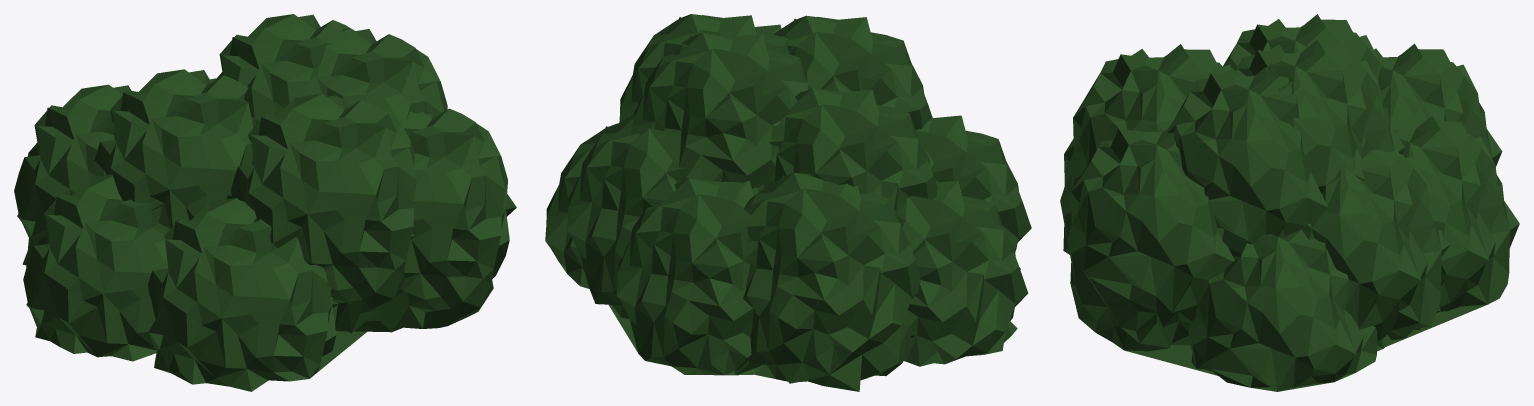
Rendered from bush 3.fbx.
3 renders of one model, left to right at view 1: azimuth 30°, elevation 25°; view 2: azimuth 150°, elevation 25°; view 3: azimuth 270°, elevation 25°, orthographic. The views are drawn at different scales.
Parts seen in each view (by area): view 1: bush; view 2: bush; view 3: bush.
Part boxes in pixels (x1,y1,x2,y2): bush: (14, 14, 516, 391); bush: (545, 14, 1031, 391); bush: (1060, 14, 1519, 391).
Bounding box in the file's own units: 96.9 × 50.28 × 82.43.
